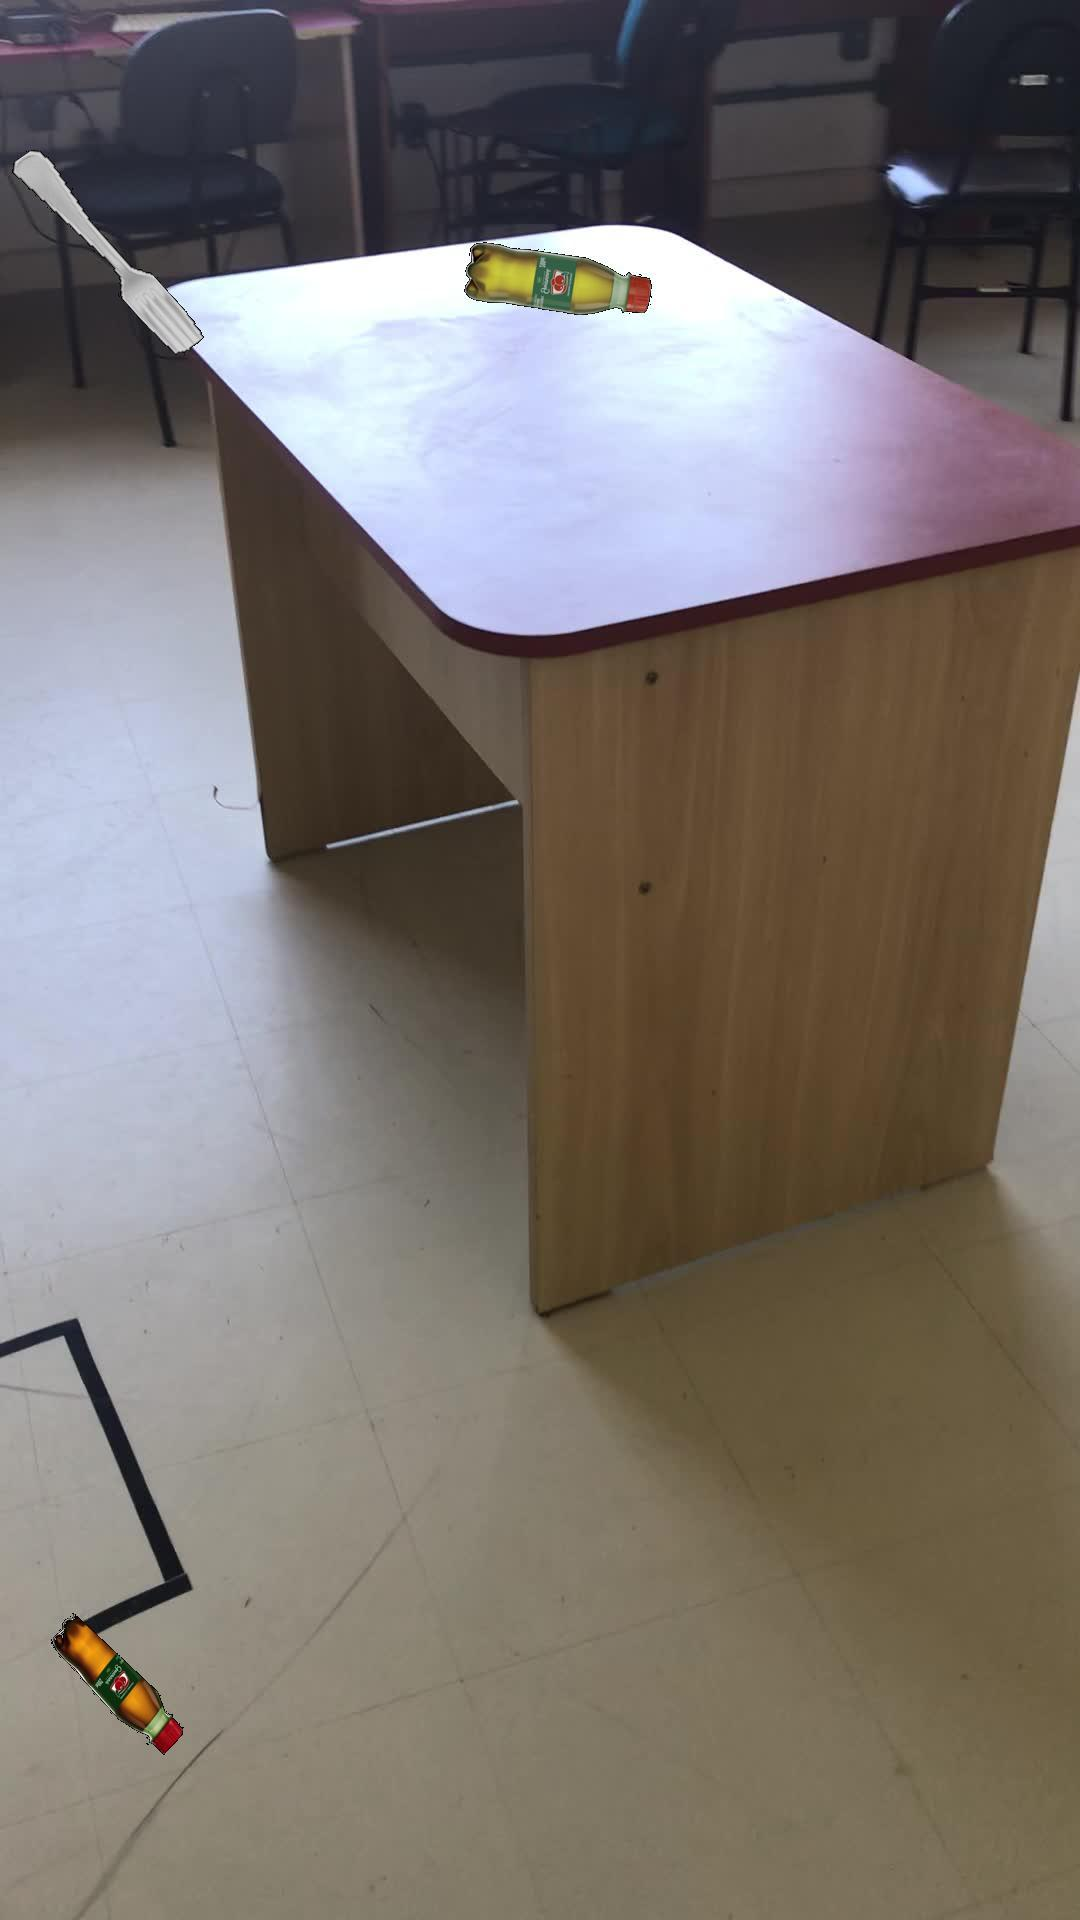fork: (11, 149, 203, 353)
guarana: (50, 1611, 182, 1754), (463, 240, 650, 314)
